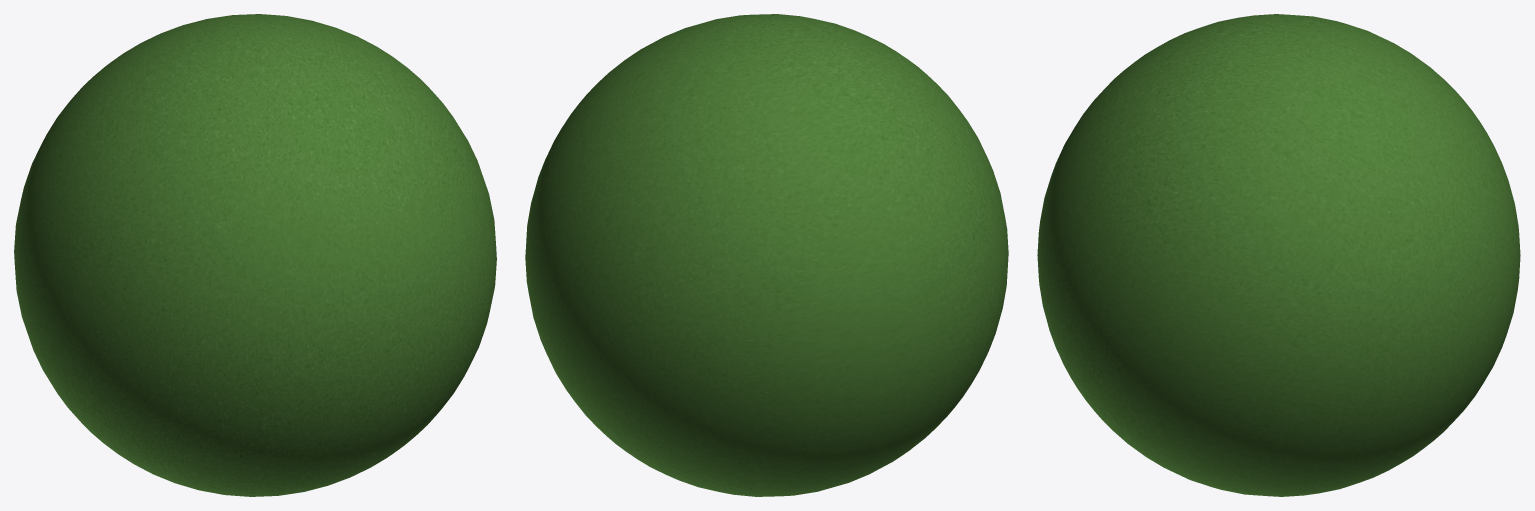
Rendered from GrassPlanetBlank.glb.
The picture shows the model from 3 angles, left to right: view 1: azimuth 30°, elevation 25°; view 2: azimuth 150°, elevation 25°; view 3: azimuth 270°, elevation 25°; orthographic projection.
Parts seen in each view (by area): view 1: mesh_id27; view 2: mesh_id27; view 3: mesh_id27.
Boxes of the visible parts, box(x1,y1,x2,y2) form: mesh_id27: box(14, 14, 496, 496); mesh_id27: box(525, 14, 1008, 496); mesh_id27: box(1037, 14, 1520, 496).
Bounding box in the file's own units: 0.2 × 0.2 × 0.2.
Materials: 1 (1 with a texture image).
